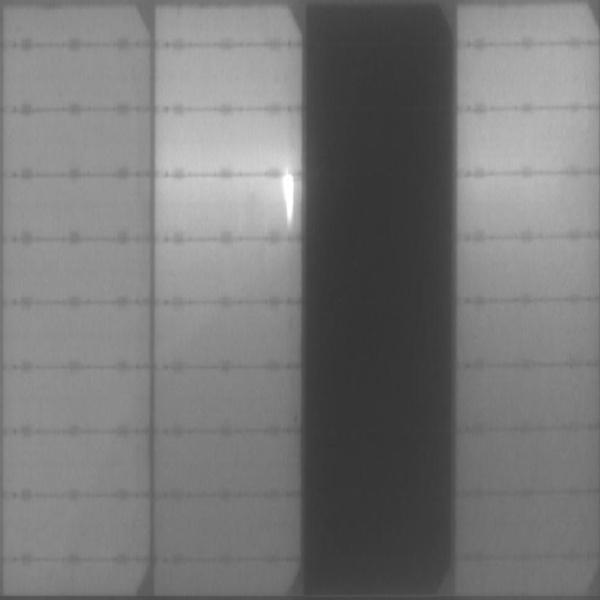hot_spot: (278, 173, 296, 223)
no_electricity: (303, 2, 456, 592)
